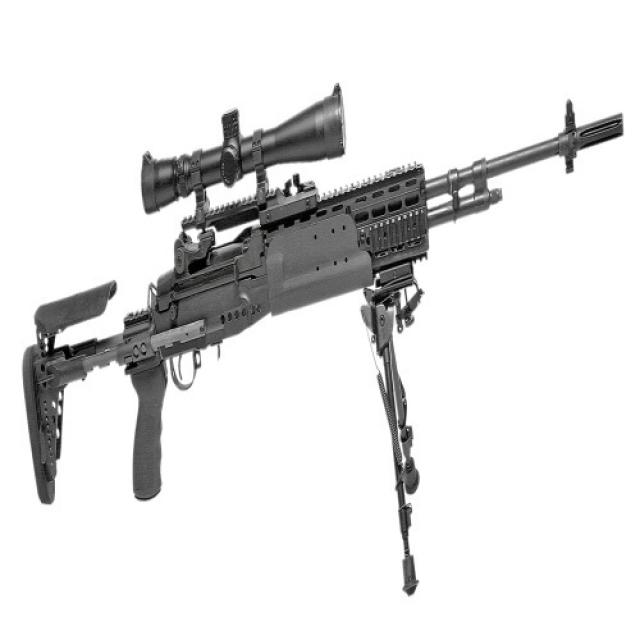Gun: (32, 105, 640, 555)
